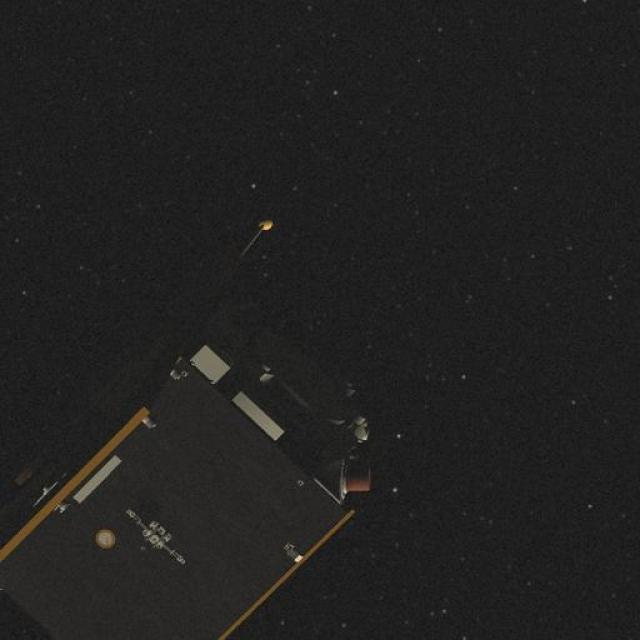proba_2: (0, 211, 433, 640)
